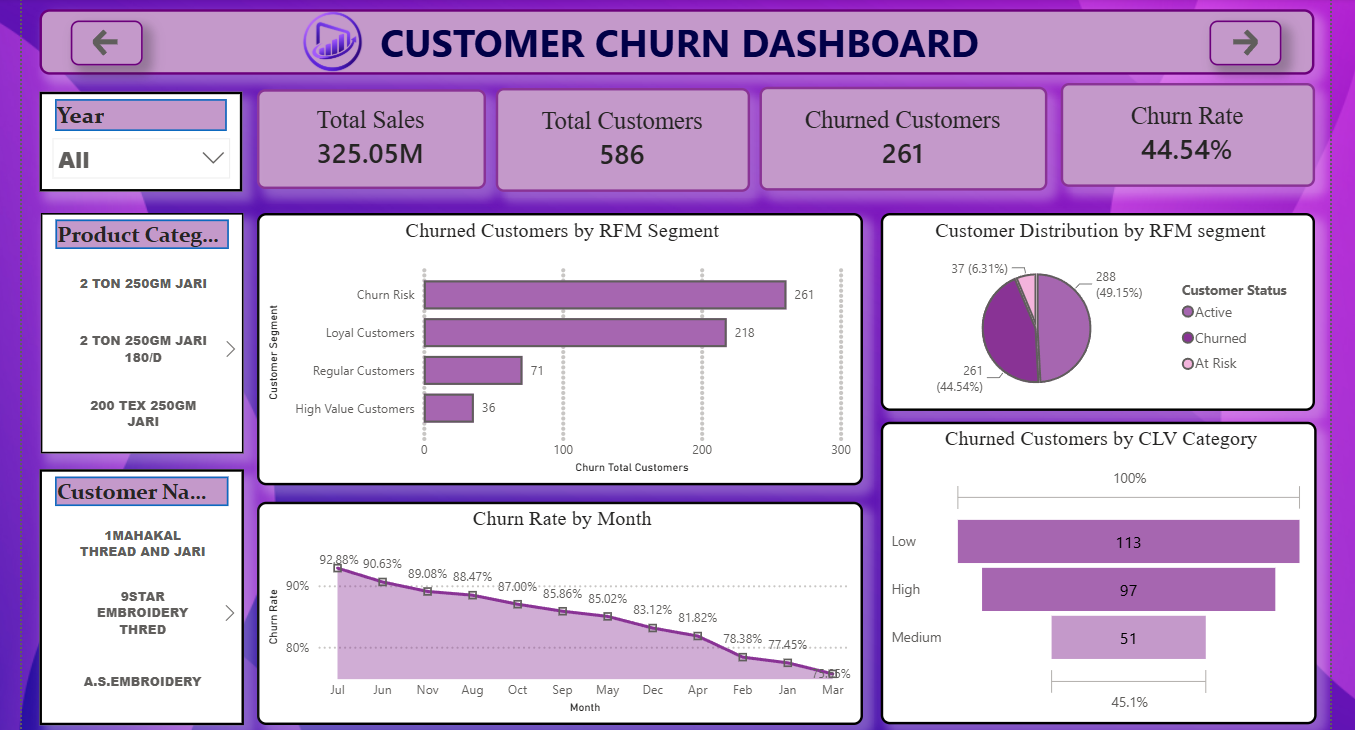

This screenshot's page, from the dashboard's own definition file:
{"tool":"powerbi","page":{"name":"CHURN DASHBOARD","canvas":[1280,720],"ordinal":6},"visuals":[{"type":"textbox","title":"CUSTOMER CHURN DASHBOARD","box":[17.5,11.2,1247.5,63.8],"z":0},{"type":"cardVisual","title":"TOTAL SALES","fields":{"Data":["Cleaned_File.Total Sales"]},"box":[230,88.8,223.8,97.5],"z":1000},{"type":"cardVisual","title":"Total Customers","fields":{"Data":["Cleaned_File.Total Customers"]},"box":[463.8,87.5,248.8,101.2],"z":2000},{"type":"cardVisual","title":"CHURNED CUSTOMER","fields":{"Data":["Customer_RFM.Churned Customers"]},"box":[721.2,86.2,281.2,101.2],"z":3000},{"type":"cardVisual","title":"Total Customers","fields":{"Data":["Customer_RFM.ChurnRate"]},"box":[1016.2,83.8,248.8,101.2],"z":4000},{"type":"lineChart","fields":{"Category":["DateTable.Month"],"Y":["Customer_RFM.Churn Rate"]},"box":[230,492.5,592.5,218.8],"z":5000},{"type":"pieChart","title":"Customer Distribution by RFM segment","fields":{"Category":["Customer_RFM.Churn Status"],"Y":["Customer_RFM.Churn Total Customers"]},"box":[840,210,425,193.8],"z":6000},{"type":"clusteredBarChart","title":"Churned Customers by RFM Segment","fields":{"Category":["Customer_RFM.Customer Segment"],"Y":["Customer_RFM.Churn Total Customers"]},"box":[230,210,592.5,266.2],"z":7000},{"type":"funnel","fields":{"Category":["Customer_RFM.CLV Category"],"Y":["Customer_RFM.Churned Customers"]},"box":[840,415,426.2,296.2],"z":8000},{"type":"slicer","fields":{"Values":["DateTable.Year"]},"box":[17.5,91.2,198.8,97.5],"z":9000},{"type":"slicer","fields":{"Values":["Cleaned_File.Product Category"]},"box":[18.8,210,198.8,235],"z":10000},{"type":"slicer","fields":{"Values":["Cleaned_File.Customer Name"]},"box":[17.5,461.2,200,250],"z":11000},{"type":"actionButton","box":[47.5,22.5,70,43.8],"z":11001},{"type":"actionButton","box":[1161.2,22.5,70,43.8],"z":11002},{"type":"image","box":[265,2.5,77.5,81.2],"z":11003}]}

Visuals, with their boxes on the page's 1280x720 design canvas (x1, y1, x2, y2). These are canvas units, not pixel positions in the 1355x730 screenshot, which may show the page scaled, cropped or inside an application window:
"CUSTOMER CHURN DASHBOARD" textbox: 18/11/1265/75
"TOTAL SALES" cardVisual: 230/89/454/186
"Total Customers" cardVisual: 464/88/713/189
"CHURNED CUSTOMER" cardVisual: 721/86/1002/187
"Total Customers" cardVisual: 1016/84/1265/185
lineChart - DateTable.Month x Customer_RFM.Churn Rate: 230/492/822/711
"Customer Distribution by RFM segment" pieChart: 840/210/1265/404
"Churned Customers by RFM Segment" clusteredBarChart: 230/210/822/476
funnel - Customer_RFM.CLV Category x Customer_RFM.Churned Customers: 840/415/1266/711
slicer - DateTable.Year: 18/91/216/189
slicer - Cleaned_File.Product Category: 19/210/218/445
slicer - Cleaned_File.Customer Name: 18/461/218/711
actionButton: 48/22/118/66
actionButton: 1161/22/1231/66
image: 265/2/342/84
